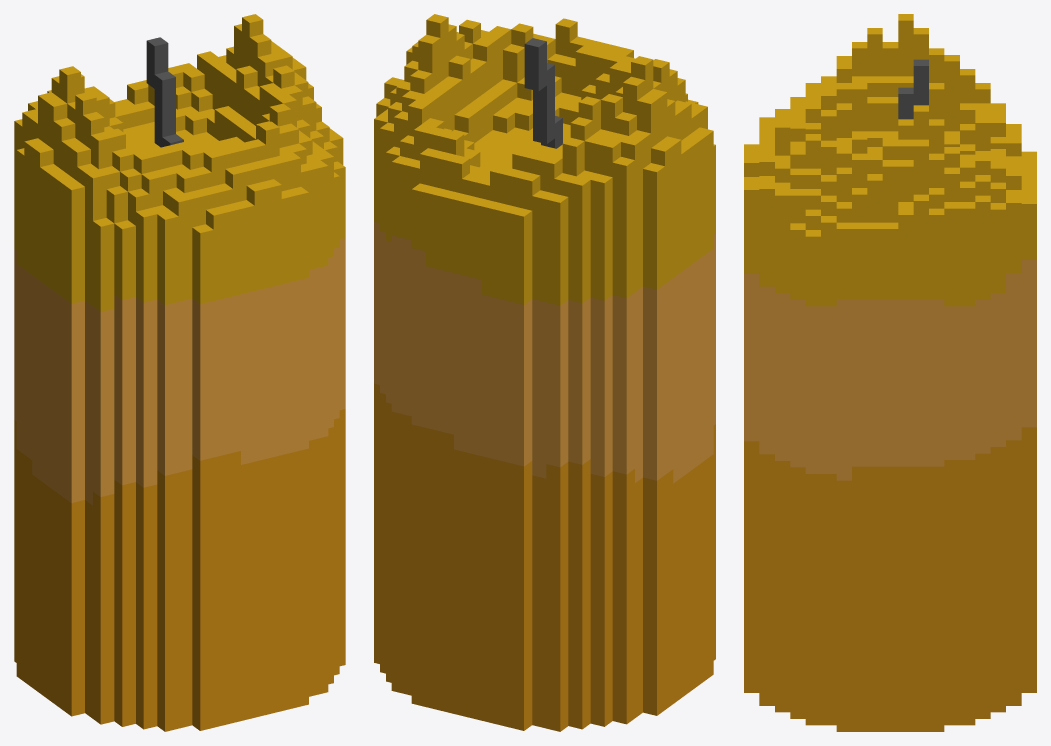
The model's file is Candle.obj.
3 renders of one model, left to right at view 1: azimuth 30°, elevation 25°; view 2: azimuth 150°, elevation 25°; view 3: azimuth 270°, elevation 25°, orthographic. The views are drawn at different scales.
Bounding box in the file's own units: 20 × 43 × 19.
1 material, 1 textured.
